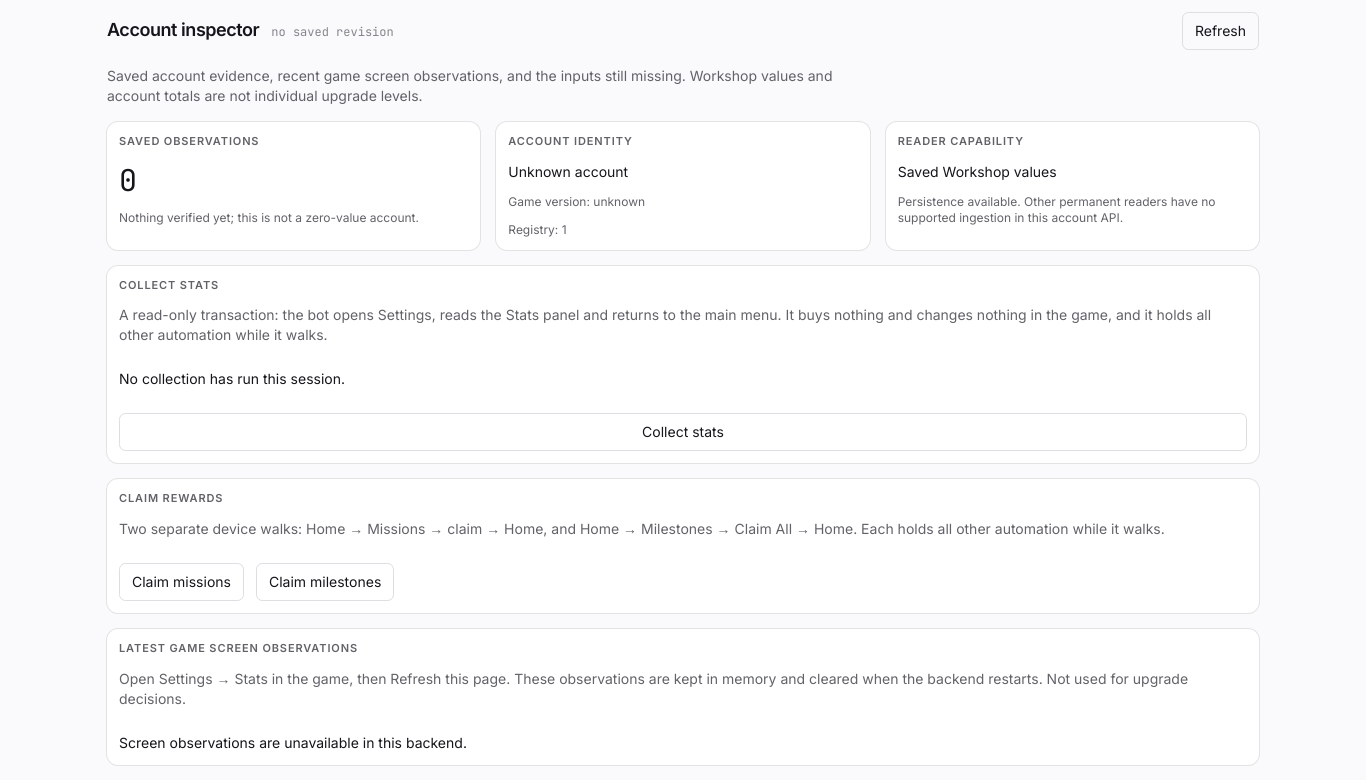
Test case: Account inspector › arms the read-only collection and reports that the bot is walking the game
The image size is (1366, 780).
Expected: the text "No collection has run this session." is shown, [119,370,345,387]
Click the button "Collect stats".
click(683, 432)  # box [119,413,1247,451]
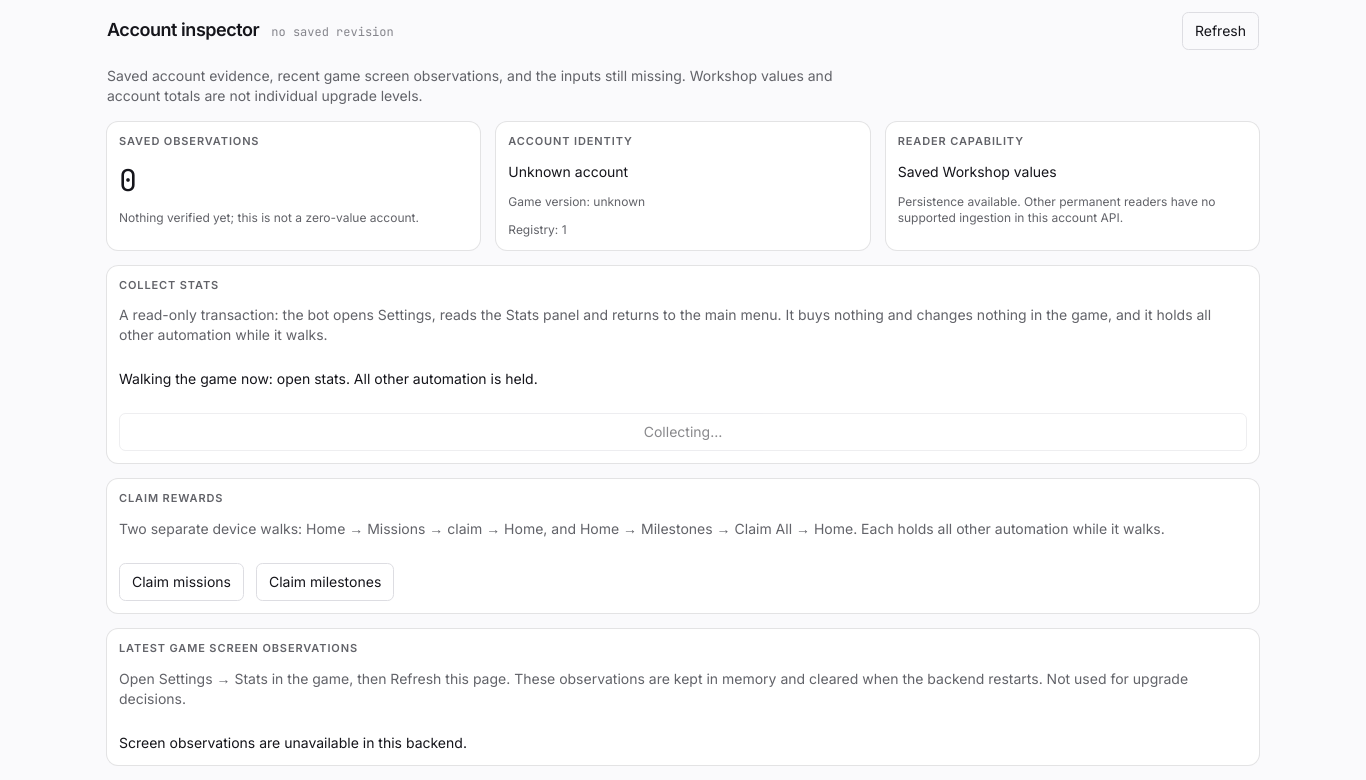
Now the text "Walking the game now: open stats. All other automation is held." is shown, box [119,370,538,387]
Now the button "Collecting…" is disabled, box [119,413,1247,451]
